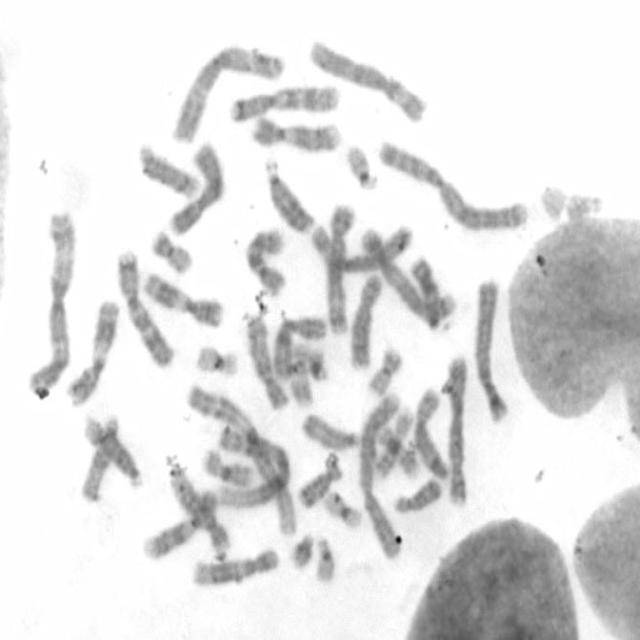A1: (184, 384, 298, 536), (214, 424, 292, 506)
A2: (377, 138, 531, 232), (357, 392, 404, 563)
A3: (170, 44, 286, 147), (28, 206, 77, 398)
B4: (472, 278, 512, 425), (446, 355, 468, 509)
B5: (359, 228, 458, 328), (326, 201, 355, 334)
C10: (245, 315, 291, 413), (242, 222, 289, 298)
C11: (64, 298, 119, 408), (141, 270, 227, 332)
C12: (167, 469, 232, 550), (191, 547, 281, 587)
C6: (308, 34, 429, 125), (308, 223, 414, 274)
C7: (114, 245, 176, 372), (229, 82, 344, 127)
C8: (412, 387, 452, 482), (346, 272, 383, 372)
C9: (141, 487, 218, 563), (248, 114, 344, 155)
D13: (264, 156, 316, 237), (408, 256, 442, 331)
D14: (84, 412, 144, 490), (138, 142, 201, 201)
D15: (78, 414, 121, 503), (301, 412, 361, 451)
E16: (374, 405, 416, 479), (199, 446, 257, 491)
E17: (377, 423, 420, 479), (287, 342, 316, 406)
E18: (295, 457, 344, 510), (392, 475, 443, 515)
F19: (322, 490, 365, 534), (194, 342, 240, 379)
F20: (364, 344, 405, 399), (150, 226, 194, 277)
G21: (288, 529, 315, 573), (306, 346, 330, 382)
G22: (345, 142, 379, 195), (314, 537, 336, 587)
X: (165, 140, 228, 240), (272, 315, 328, 380)
